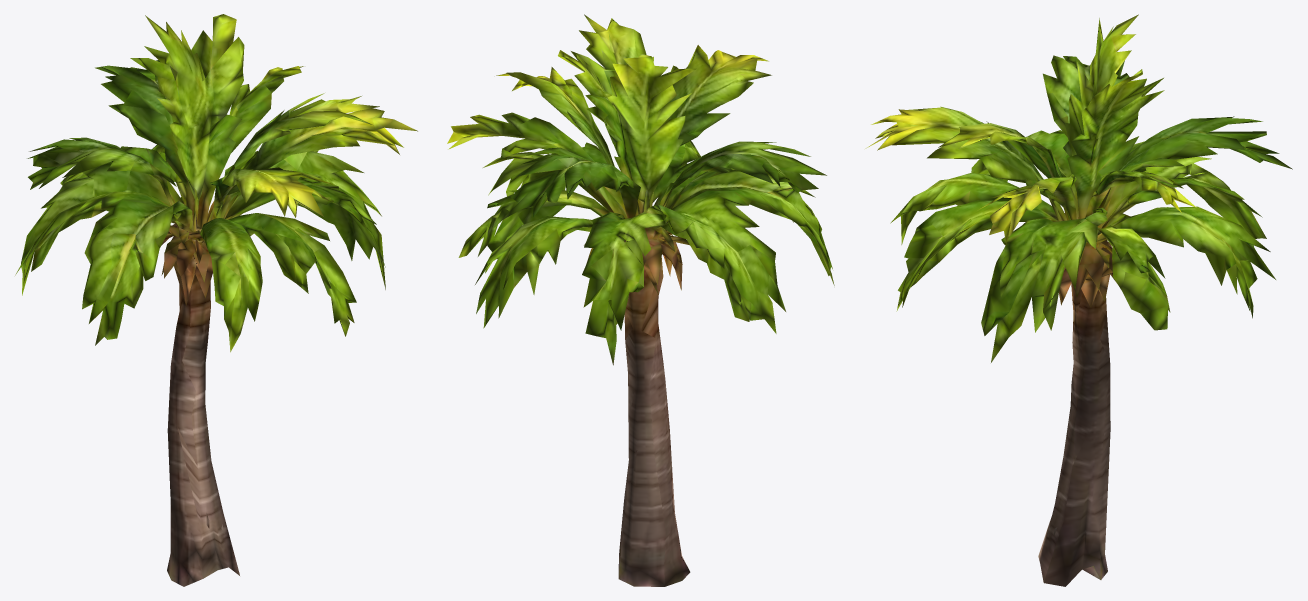
File: meshy-palm-m0.glb
3 views of the same model, side by side, from view 1: azimuth 30°, elevation 25°; view 2: azimuth 150°, elevation 25°; view 3: azimuth 270°, elevation 25° (orthographic).
Parts seen in each view (by area): view 1: mesh_node; view 2: mesh_node; view 3: mesh_node.
Part boxes in pixels (x1,y1,x2,y2): mesh_node: (15, 14, 417, 586); mesh_node: (447, 14, 834, 586); mesh_node: (865, 14, 1292, 586).
Size of the model in its own units: 1.3 by 1.89 by 1.35.
1 material, 1 textured.
